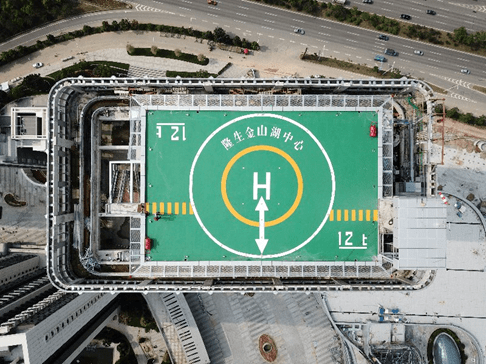H: (254, 173, 270, 200)
